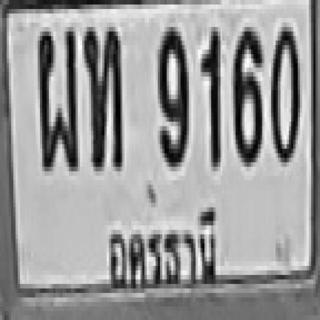A23: (82, 23, 120, 167)
A28: (37, 27, 77, 171)
N00: (269, 23, 298, 158)
N01: (200, 25, 218, 165)
N06: (231, 23, 260, 162)
N09: (156, 23, 187, 162)
P73: (103, 202, 226, 301)
